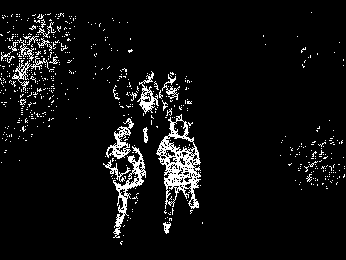person: (106, 126, 148, 238), (162, 119, 202, 235), (116, 67, 137, 123), (164, 70, 182, 119), (142, 69, 157, 123)
